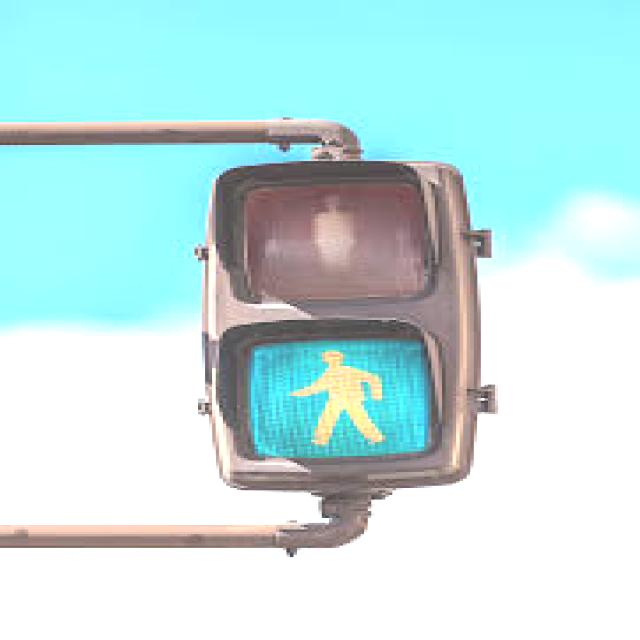trafficlight: (188, 154, 484, 483)
